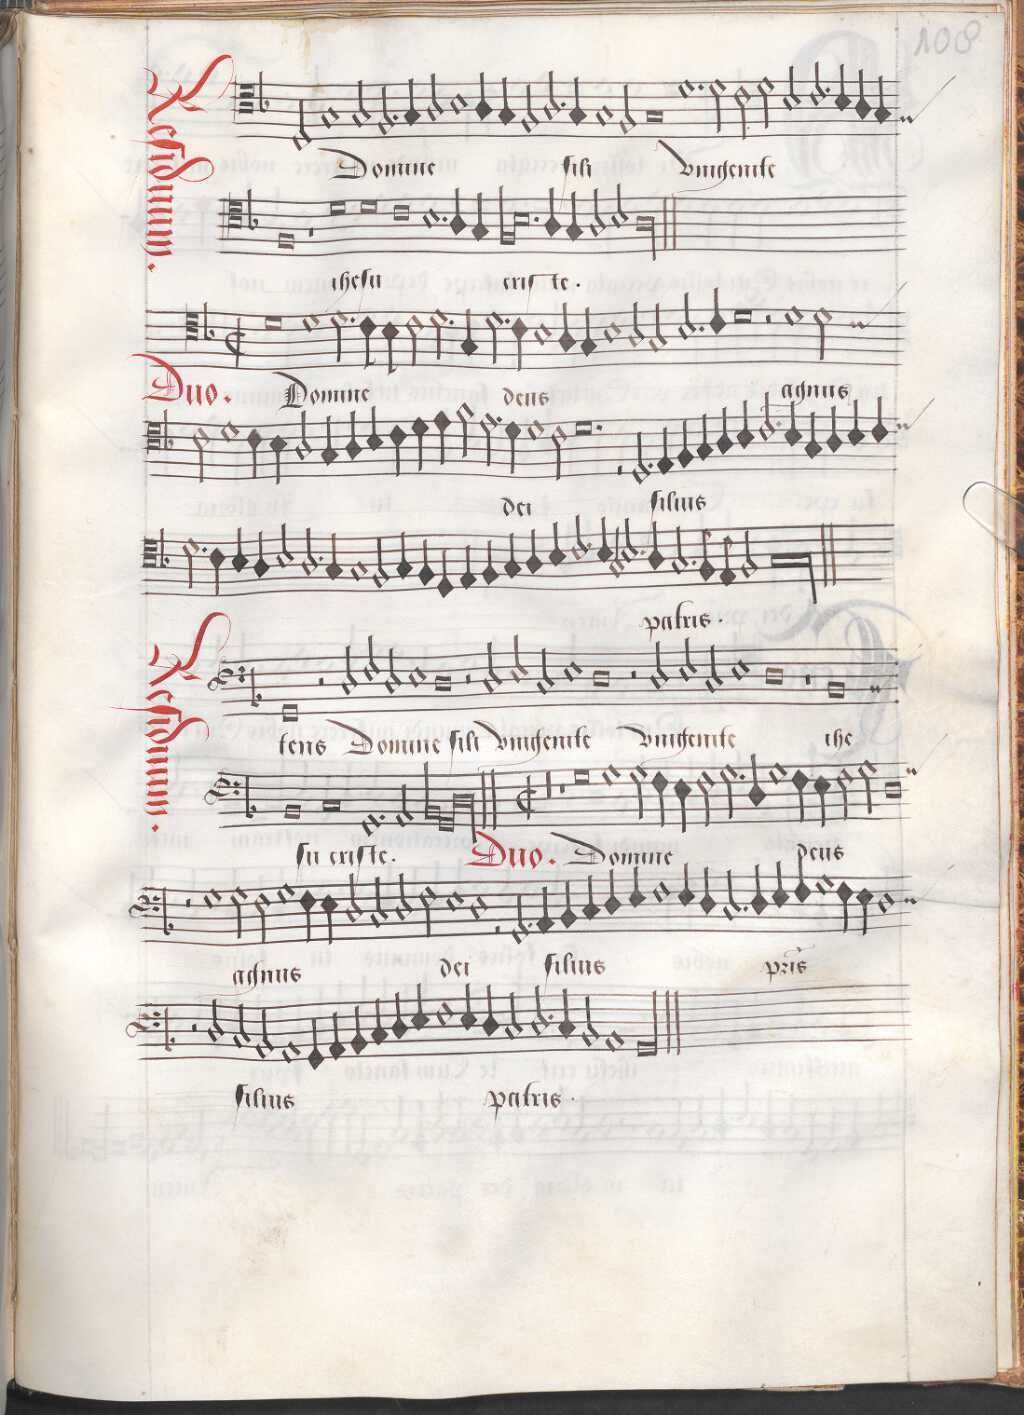breve_8: (639, 99, 669, 132)
c clef_5: (231, 69, 258, 126)
custos_9: (890, 99, 930, 142)
flat_6: (256, 68, 272, 125)
minim_11: (290, 88, 314, 156)
minim_4: (754, 67, 777, 136), (706, 67, 726, 140)
minim_5: (732, 76, 754, 145), (806, 56, 826, 114)
minim_6: (781, 59, 804, 119)
minim_7: (539, 62, 561, 127), (425, 64, 446, 129)
minim_8: (350, 74, 372, 135)
minim_9: (374, 75, 396, 143), (519, 73, 541, 141), (616, 75, 638, 142)
point: (691, 74, 709, 97), (552, 92, 569, 114), (388, 107, 403, 127), (819, 80, 834, 100)
semibreve_4: (674, 68, 695, 109)
semibreve_6: (448, 83, 469, 123)
semibreve_8: (316, 94, 343, 140), (592, 93, 615, 135)
semiminim_6: (834, 59, 852, 119)
semiminim_7: (853, 63, 873, 127), (472, 66, 493, 129)
semiminim_8: (401, 71, 421, 134), (496, 70, 515, 133), (873, 69, 893, 132), (568, 70, 587, 134)
